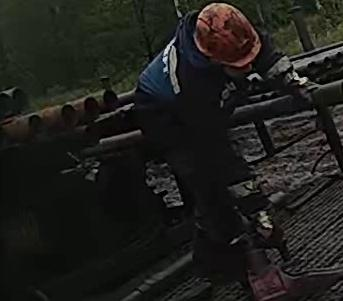gloves: (261, 53, 321, 107), (243, 204, 288, 252)
helmet: (192, 2, 262, 68)
vest: (132, 39, 256, 165)
